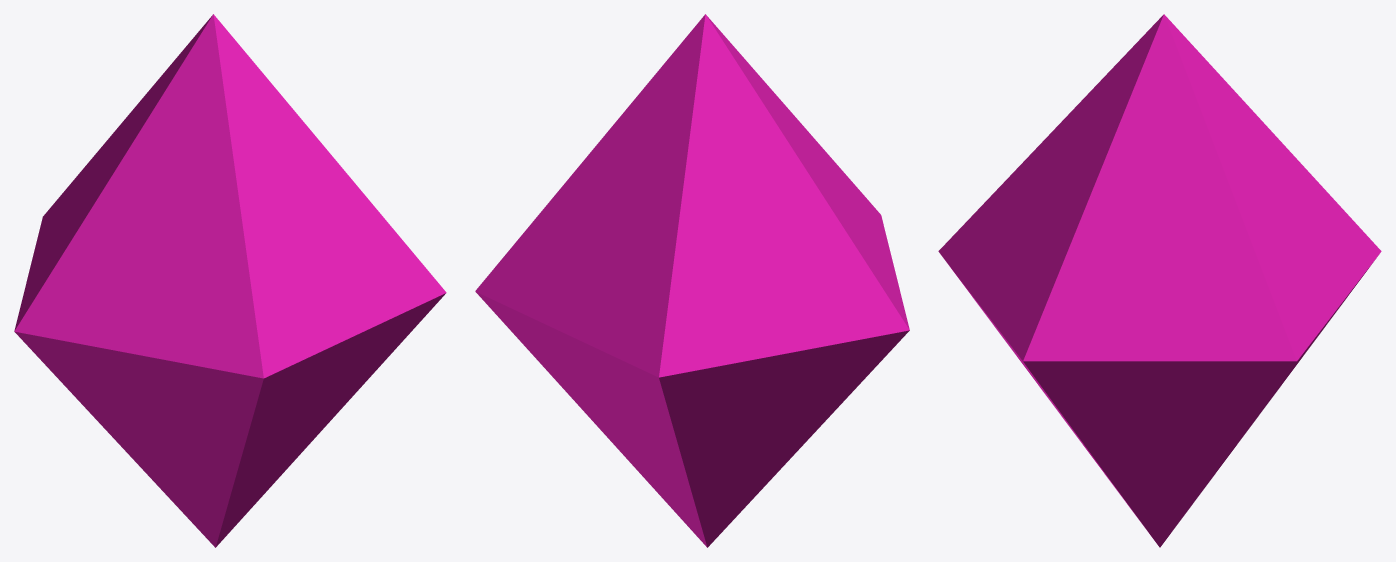
File: reward.fbx
3 views of the same model, side by side, from view 1: azimuth 30°, elevation 25°; view 2: azimuth 150°, elevation 25°; view 3: azimuth 270°, elevation 25° (orthographic).
Parts seen in each view (by area): view 1: Icosphere; view 2: Icosphere; view 3: Icosphere.
Boxes of the visible parts, x1=… form: Icosphere: x1=14, y1=14, x2=446, y2=547; Icosphere: x1=475, y1=14, x2=909, y2=547; Icosphere: x1=938, y1=14, x2=1381, y2=547.
Bounding box in the file's own units: 162 × 226 × 170.
